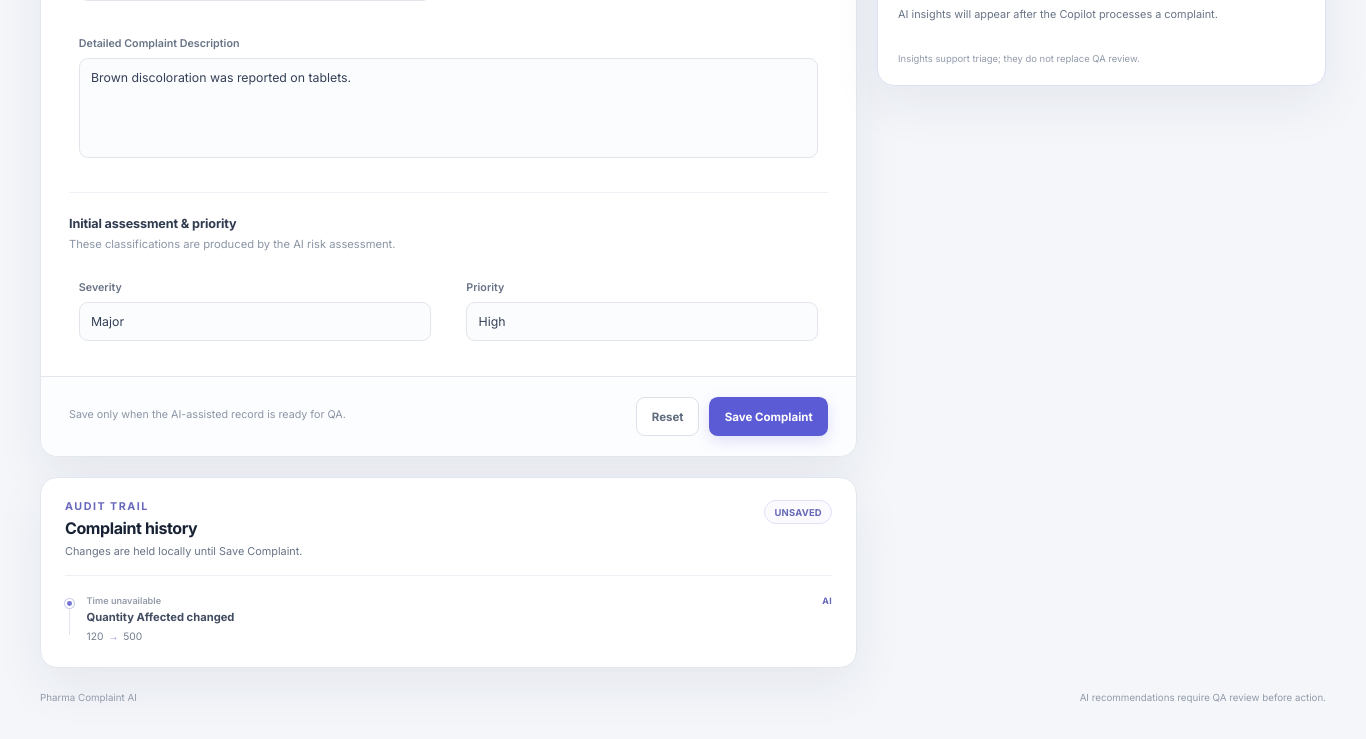
ComplaintPage AI workflow › preserves the complaint and pending audit events when save fails
This screenshot has width=1366, height=739.
(page scrolled)
Click the button "Save Complaint": (769, 417) [709, 397, 828, 436]
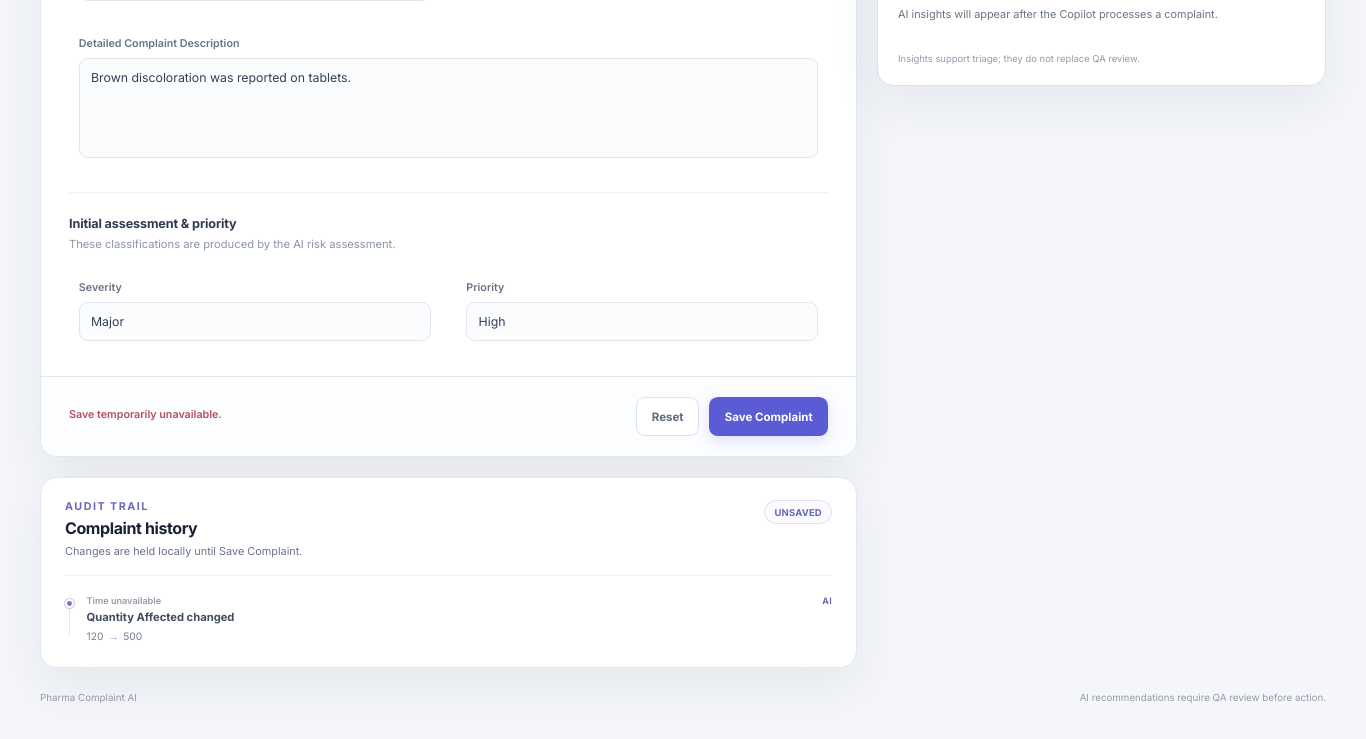
Expected: the text "Save temporarily unavailable." is shown, [69, 407, 222, 422]
